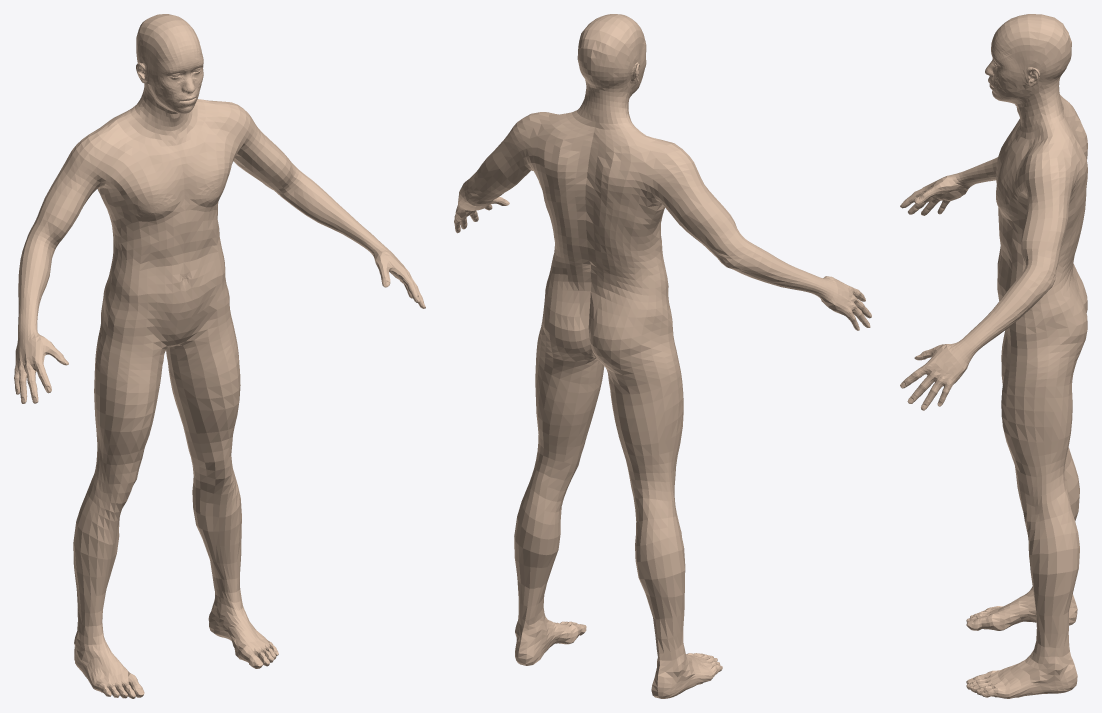
File: male-adult-average-high.glb
The picture shows the model from 3 angles, left to right: view 1: azimuth 30°, elevation 25°; view 2: azimuth 150°, elevation 25°; view 3: azimuth 270°, elevation 25°; orthographic projection.
Parts seen in each view (by area): view 1: world; view 2: world; view 3: world.
Boxes of the visible parts, x1,y1,x2,y2 form: world: [14, 14, 425, 698]; world: [454, 14, 871, 698]; world: [900, 14, 1087, 698].
Bounding box in the file's own units: 1.28 × 1.95 × 0.5165.
